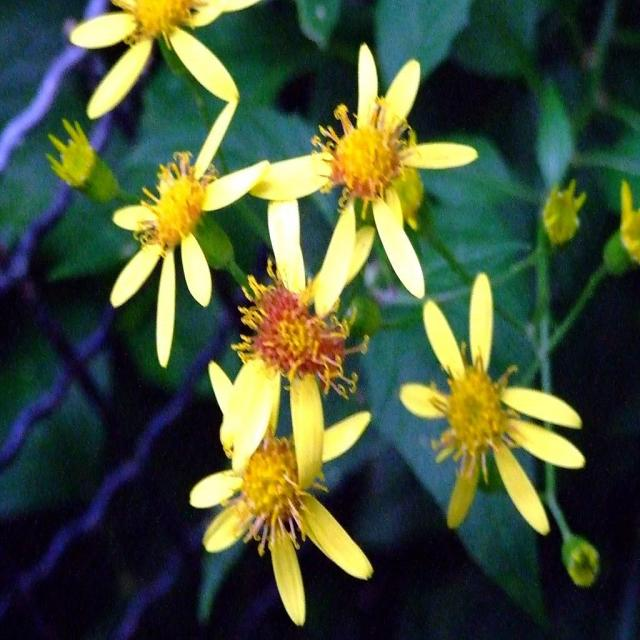organic waste: (214, 358, 392, 616), (293, 42, 467, 301), (222, 180, 365, 486), (425, 269, 581, 549), (95, 136, 248, 346), (85, 0, 253, 110)
